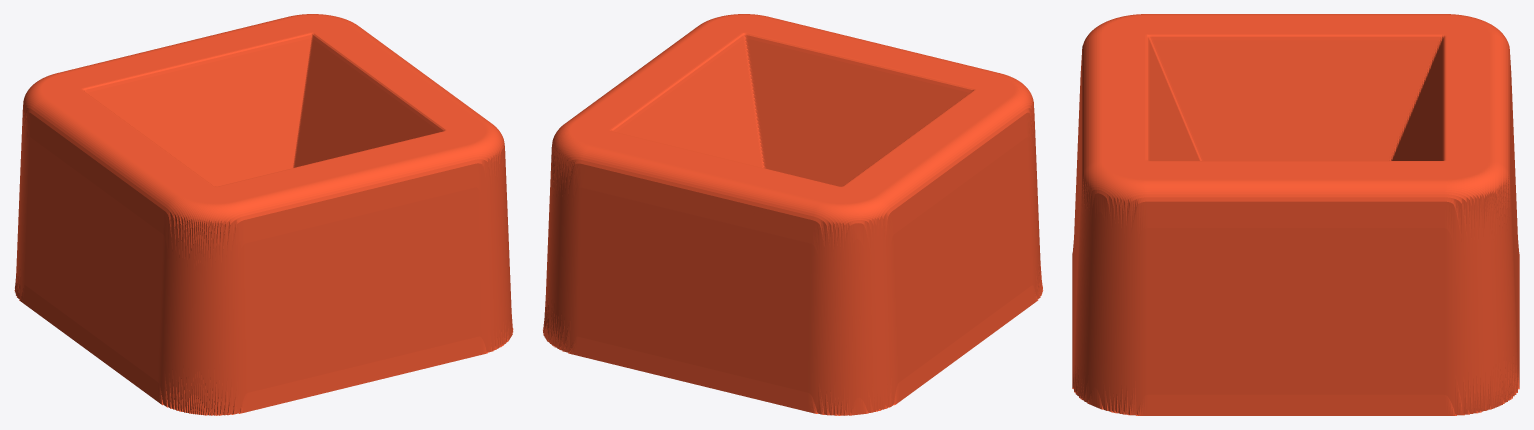
Rendered from mold.glb.
3 views of the same model, side by side, from view 1: azimuth 30°, elevation 25°; view 2: azimuth 150°, elevation 25°; view 3: azimuth 270°, elevation 25° (orthographic). The views are drawn at different scales.
Parts seen in each view (by area): view 1: geometry_0; view 2: geometry_0; view 3: geometry_0.
Part boxes in pixels (left/top/right/bottom): geometry_0: left=14, top=14, right=513, bottom=415; geometry_0: left=543, top=14, right=1043, bottom=415; geometry_0: left=1072, top=14, right=1519, bottom=415.
Size of the model in its own units: 0.0542 by 0.0299 by 0.0542.
